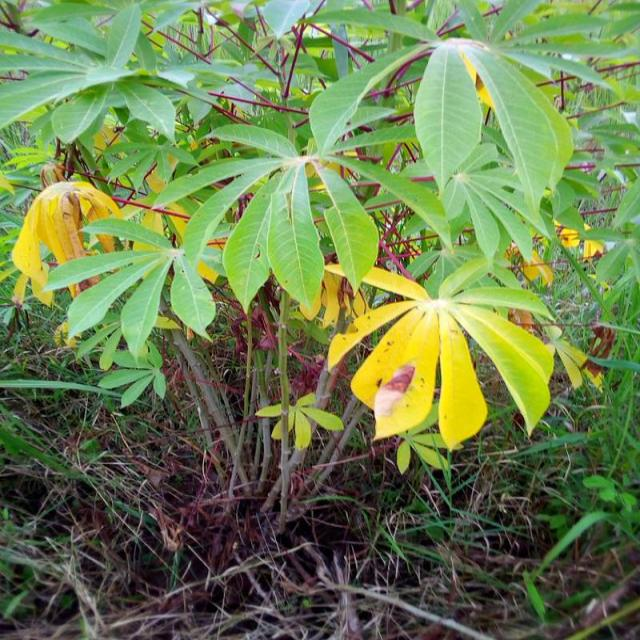cassava leaf: (2, 1, 636, 479), (327, 246, 556, 454)
